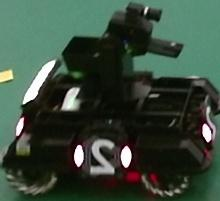armor_2: (75, 144, 132, 169)
light: (22, 58, 56, 105)
right_2: (83, 135, 121, 178)
